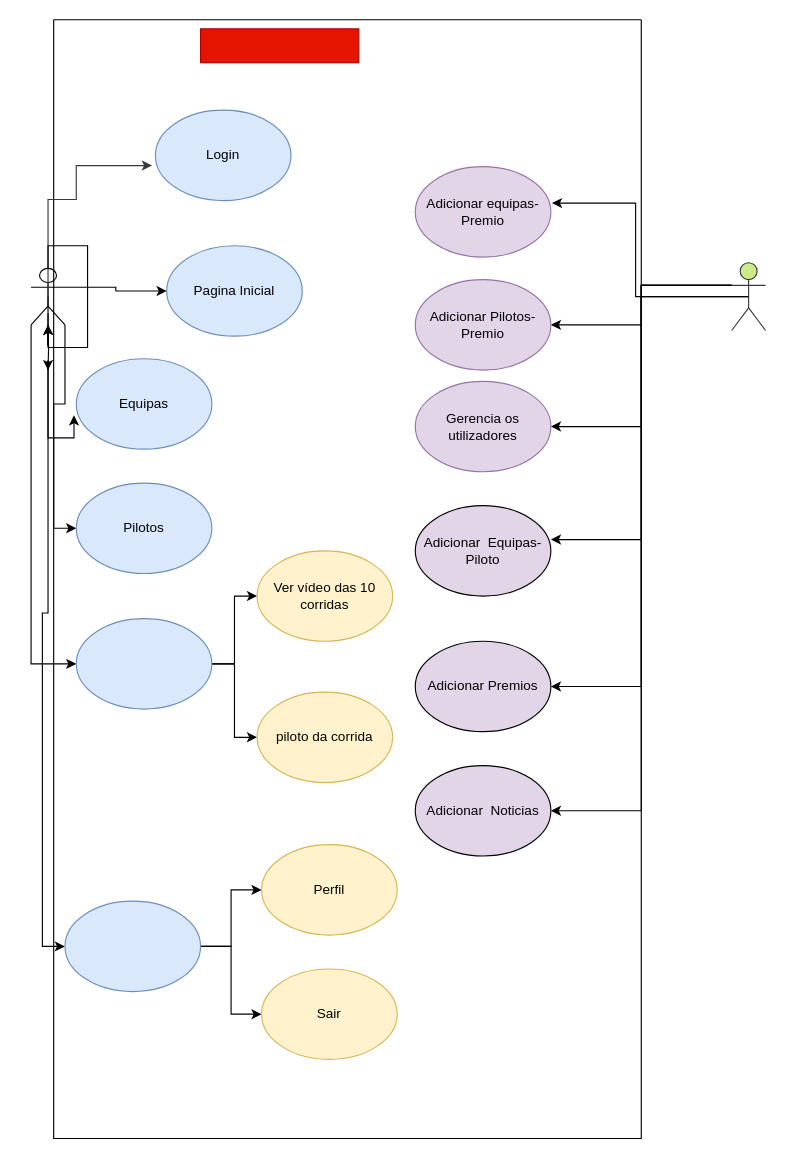
Some shapes in this 809 by 1158 pixel diagram are drawn without their labels. Each missing label, with the centre of its shape:
"Administrador" goes at (748,296).
"Apostas" goes at (143,663).
"Conta" goes at (132,946).
"Formula1Passionados" goes at (279,45).
"Utilizador" goes at (47,296).
